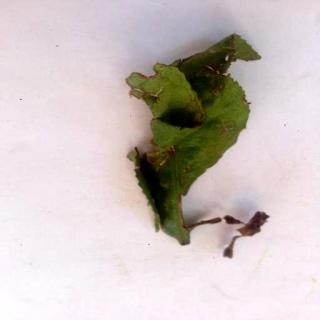Brown Blight: (128, 34, 273, 260)
